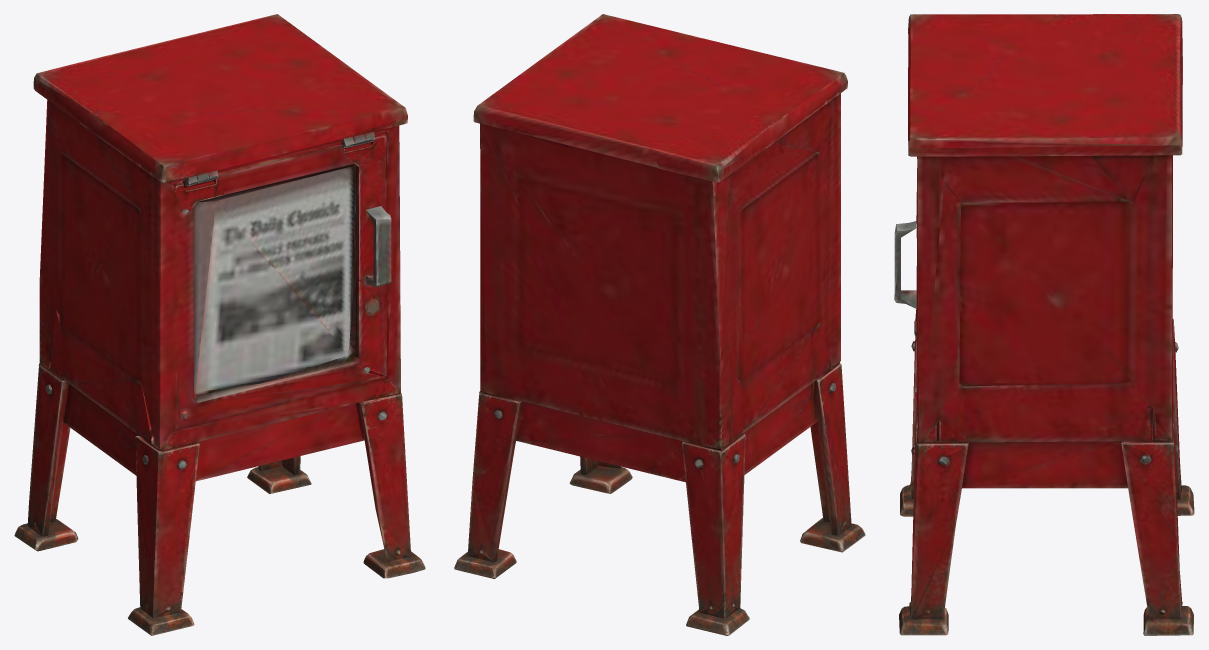
The model's file is newsbox.glb.
3 renders of one model, left to right at view 1: azimuth 30°, elevation 25°; view 2: azimuth 150°, elevation 25°; view 3: azimuth 270°, elevation 25°, orthographic. The views are drawn at different scales.
Bounding box in the file's own units: 1.19 × 1.9 × 1.05.
Materials: 1 (1 with a texture image).
